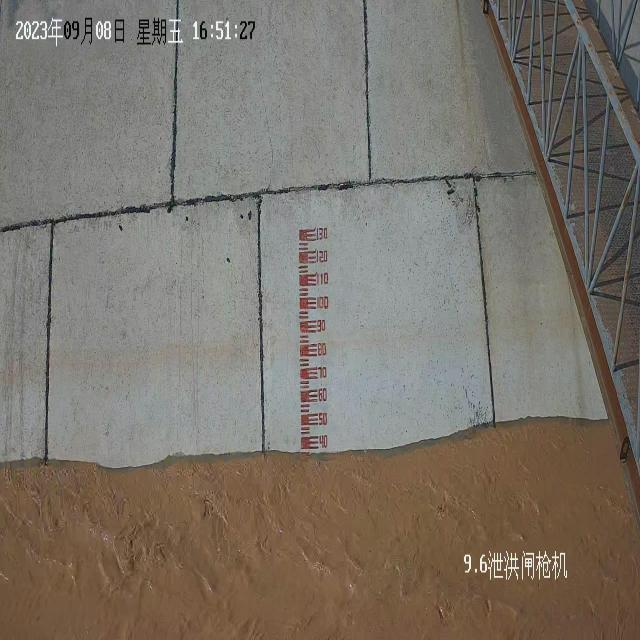ruler: (296, 220, 332, 457)
value: (314, 223, 330, 244), (315, 292, 330, 312), (315, 269, 329, 289), (315, 316, 329, 336), (315, 246, 328, 267), (316, 362, 329, 382), (317, 409, 329, 429), (316, 339, 328, 358), (317, 385, 328, 405), (318, 432, 329, 450)
